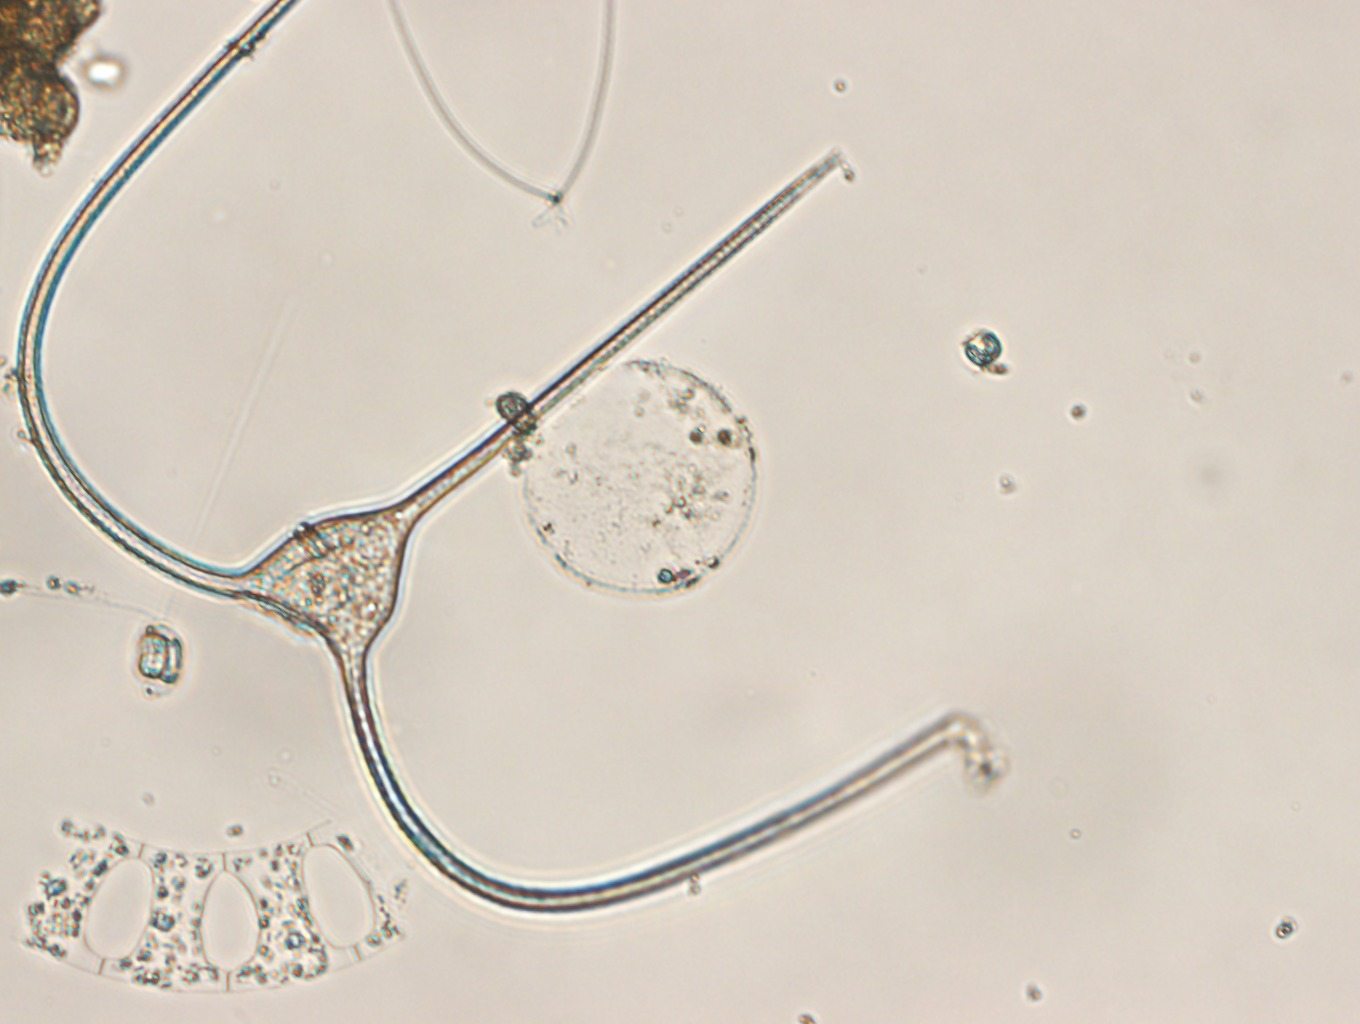ceratium trichoceros: (14, 1, 964, 916)
coscinodiscus: (522, 359, 758, 596)
eucampia: (23, 813, 412, 995)
